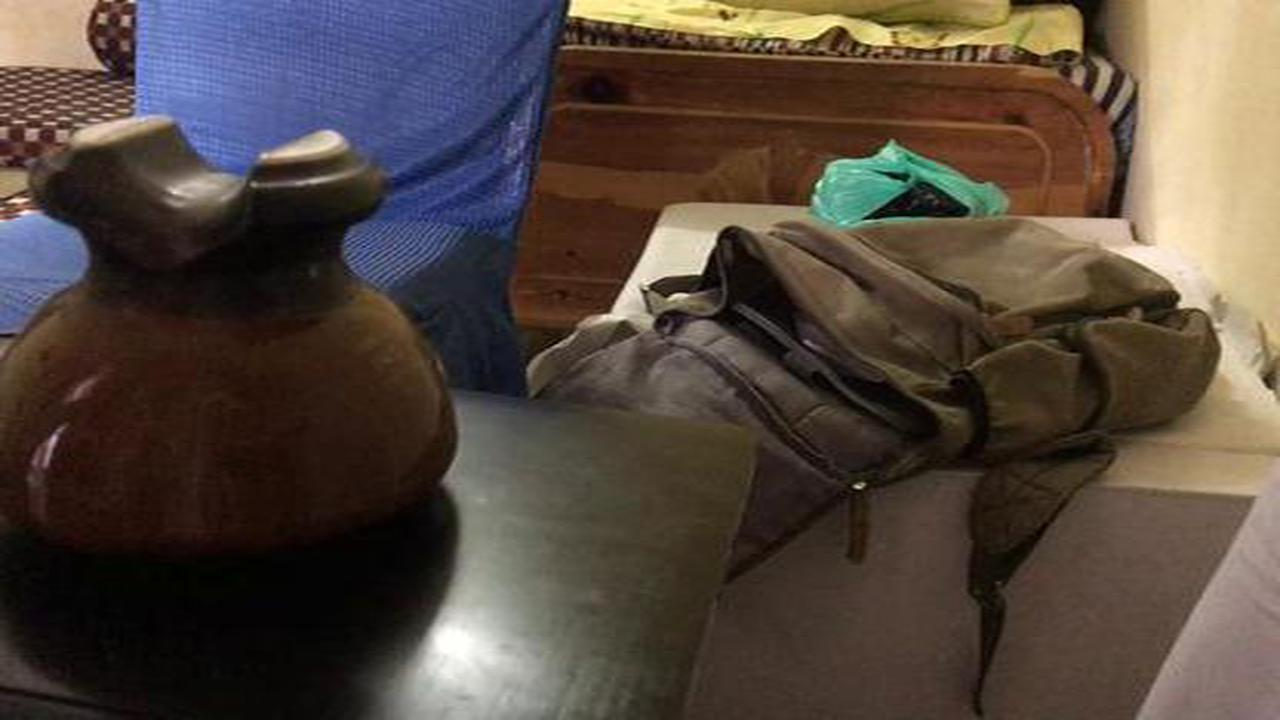insulator_pin: (11, 106, 471, 577)
